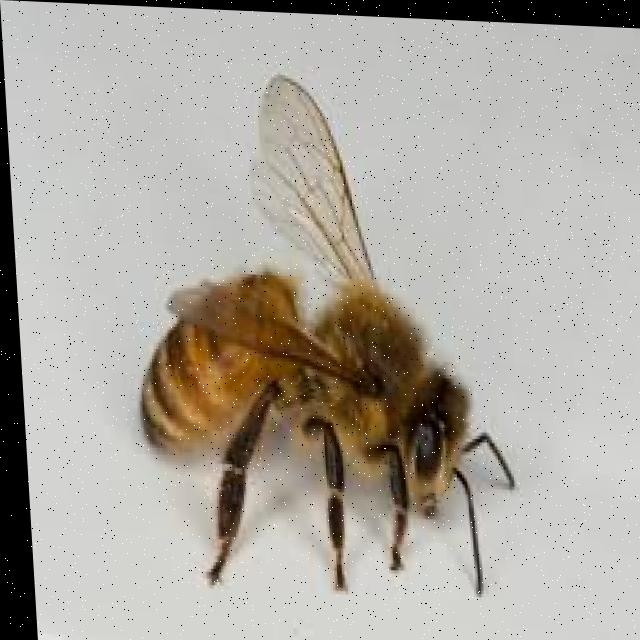Apis-mellifera-scutellata: (112, 54, 523, 603)
